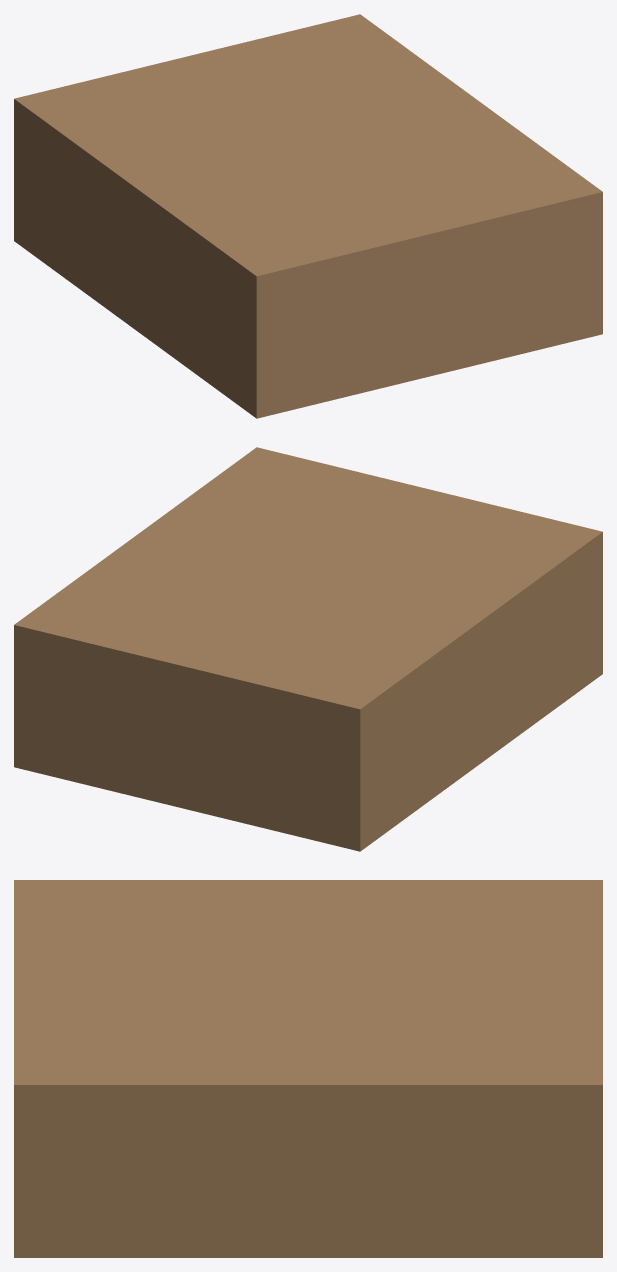
File: escoteiro_pe.glb
The picture shows the model from 3 angles, top to bottom: view 1: azimuth 30°, elevation 25°; view 2: azimuth 150°, elevation 25°; view 3: azimuth 270°, elevation 25°; orthographic projection. The views are drawn at different scales.
Parts seen in each view (by area): view 1: escoteiro_pe; view 2: escoteiro_pe; view 3: escoteiro_pe.
Boxes of the visible parts, left/top/right/bottom form: escoteiro_pe: left=14, top=14, right=602, bottom=418; escoteiro_pe: left=14, top=447, right=602, bottom=851; escoteiro_pe: left=14, top=880, right=602, bottom=1257.
Bounding box in the file's own units: 0.28 × 0.11 × 0.34.
